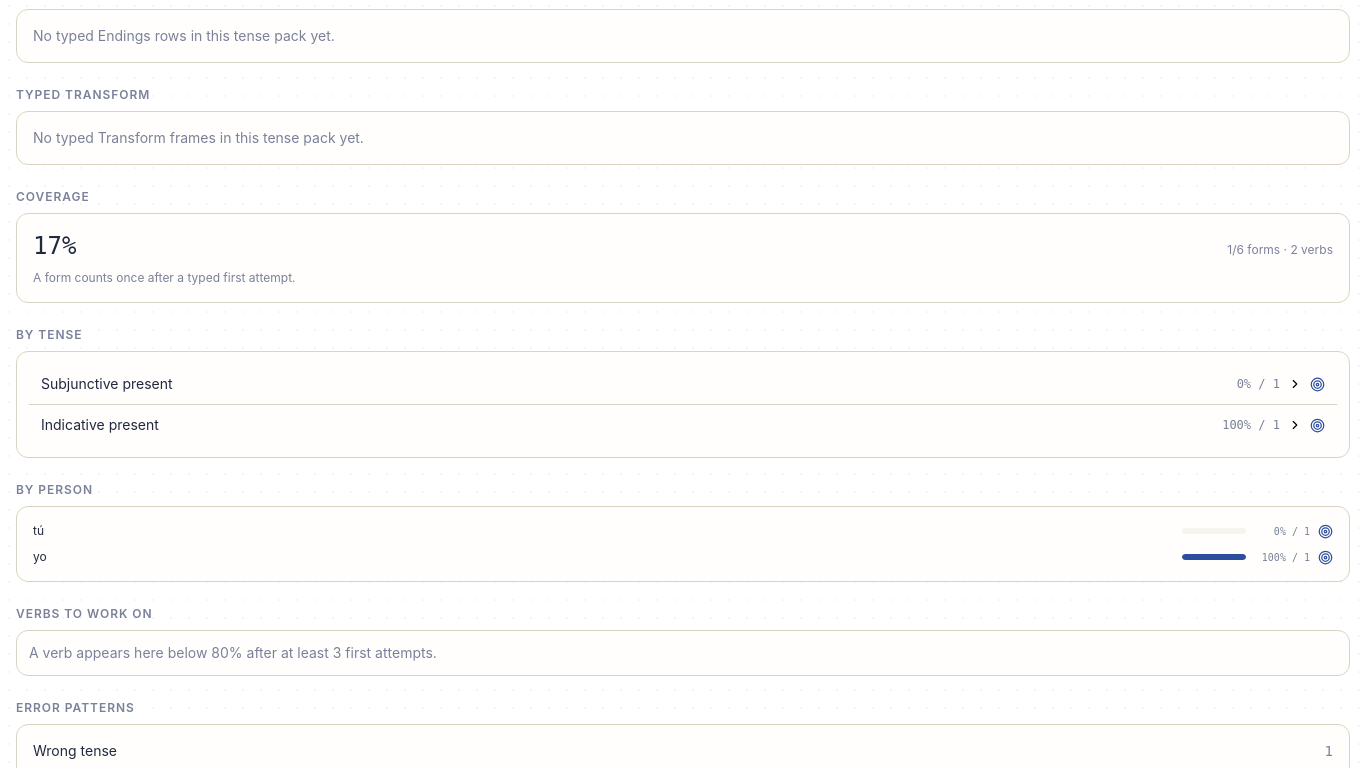
Test case: dedicated Conjugation Gym performance › uses mood-qualified tense rows and expands them into persisted person strings
The width and height of the screenshot is (1366, 768).
(page scrolled)
Check: the text "Indicative present" is shown, box [41,416,159,433]
Check: the text "Subjunctive present" is shown, box [41,375,173,392]
Step 1. Click the button "Subjunctive present 0% / 1" → (107, 384), box [41,374,1302,394]
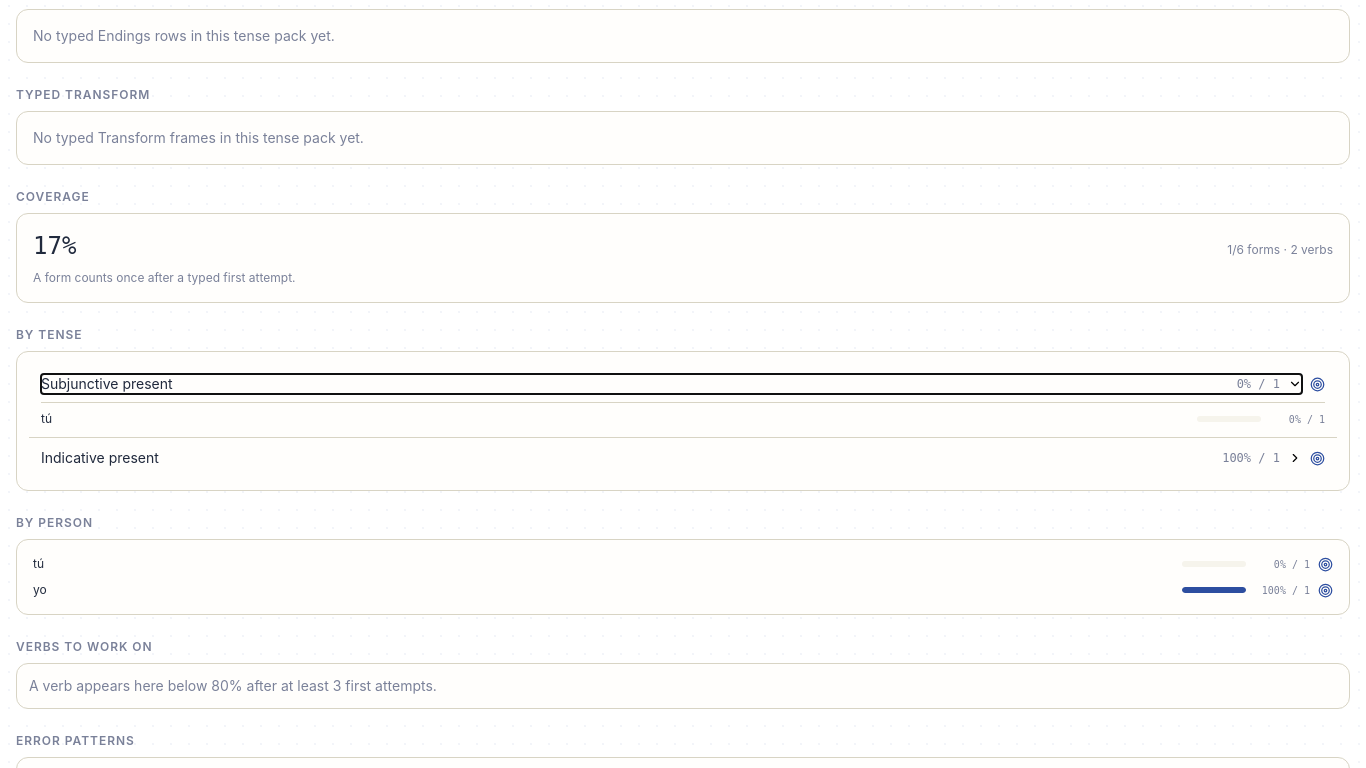
Check: the 1st text "tú" is shown, box [41,411,52,426]
